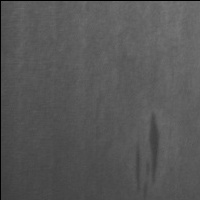inclusion: (128, 109, 166, 200)
